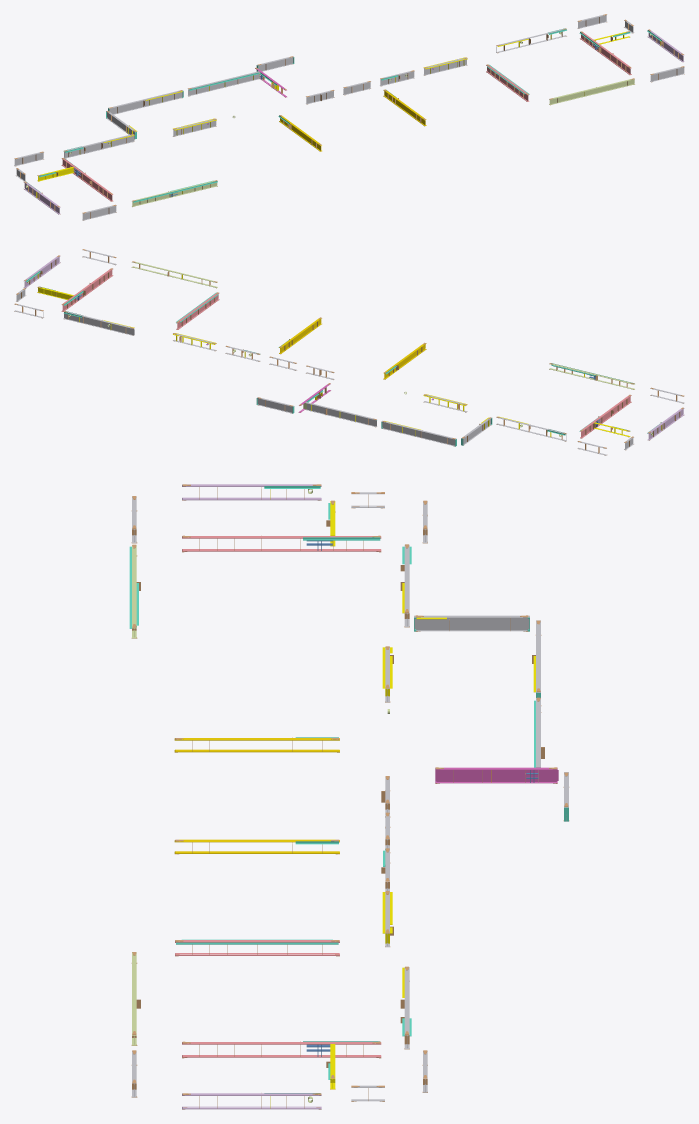
3 renders of one model, top to bottom at view 1: azimuth 30°, elevation 25°; view 2: azimuth 150°, elevation 25°; view 3: azimuth 270°, elevation 25°, orthographic. The views are drawn at different scales.
Visible parts, largest first — view 1: 18-3GL[1Ul9Zm000lGp4rE3aqCZWr], 18-3GL[1Ul9Zm000m3p4rE3aqCZWr], 18-3GL[1Ul9Zm000lBp4rE3aqCZWr], 18-3GL[1Ul9Zm000lJp4rE3aqCZWr], 18-3GL[1Ul9Zm000m2p4rE3aqCZWr], 18-3GL[1Ul9Zm000lyp4rE3aqCZWr], 18-3GL[1Ul9Zm000lzp4rE3aqCZWr], 18-3GL[1Ul9Zm000lop4rE3aqCZWr], 18-3GL[1Ul9Zm000l$p4rE3aqCZWr], 18-3GL[1Ul9Zm000lup4rE3aqCZWr], 18-3GL[1Ul9Zm000m1p4rE3aqCZWr], 18-3GL[1Ul9Zm000m0p4rE3aqCZWr] (+1 smaller); view 2: 18-3GL[1Ul9Zm000lGp4rE3aqCZWr], 18-3GL[1Ul9Zm000lJp4rE3aqCZWr], 18-3GL[1Ul9Zm000lip4rE3aqCZWr], 18-3GL[1Ul9Zm000lyp4rE3aqCZWr], 18-3GL[1Ul9Zm000lzp4rE3aqCZWr], 18-3GL[1Ul9Zm000l$p4rE3aqCZWr], 18-3GL[1Ul9Zm000m1p4rE3aqCZWr], 18-3GL[1Ul9Zm000m3p4rE3aqCZWr], 18-3GL[1Ul9Zm000m0p4rE3aqCZWr]; view 3: 18-3GL[1Ul9Zm000lLp4rE3aqCZWr], 18-3GL[1Ul9Zm000lDp4rE3aqCZWr], 18-3GL[1Ul9Zm000lzp4rE3aqCZWr], 18-3GL[1Ul9Zm000m0p4rE3aqCZWr], 18-3GL[1Ul9Zm000lyp4rE3aqCZWr], 18-3GL[1Ul9Zm000m1p4rE3aqCZWr], 18-3GL[1Ul9Zm000l$p4rE3aqCZWr], 18-3GL[1Ul9Zm000l_p4rE3aqCZWr].
Boxes of the visible parts, box(x1,y1,x2,y2) form: 18-3GL[1Ul9Zm000lGp4rE3aqCZWr]: box(108, 90, 182, 114); 18-3GL[1Ul9Zm000m3p4rE3aqCZWr]: box(549, 79, 634, 104); 18-3GL[1Ul9Zm000lBp4rE3aqCZWr]: box(64, 134, 134, 158); 18-3GL[1Ul9Zm000lJp4rE3aqCZWr]: box(188, 71, 259, 96); 18-3GL[1Ul9Zm000m2p4rE3aqCZWr]: box(132, 181, 217, 206); 18-3GL[1Ul9Zm000lyp4rE3aqCZWr]: box(61, 158, 113, 201); 18-3GL[1Ul9Zm000lzp4rE3aqCZWr]: box(580, 32, 631, 74); 18-3GL[1Ul9Zm000lop4rE3aqCZWr]: box(173, 119, 216, 136); 18-3GL[1Ul9Zm000l$p4rE3aqCZWr]: box(486, 65, 529, 101); 18-3GL[1Ul9Zm000lup4rE3aqCZWr]: box(423, 58, 467, 75); 18-3GL[1Ul9Zm000m1p4rE3aqCZWr]: box(383, 90, 426, 126); 18-3GL[1Ul9Zm000m0p4rE3aqCZWr]: box(279, 116, 321, 151); 18-3GL[1Ul9Zm000lGp4rE3aqCZWr]: box(382, 420, 456, 446); 18-3GL[1Ul9Zm000lJp4rE3aqCZWr]: box(305, 402, 376, 426); 18-3GL[1Ul9Zm000lip4rE3aqCZWr]: box(63, 312, 134, 335); 18-3GL[1Ul9Zm000lyp4rE3aqCZWr]: box(580, 395, 631, 438); 18-3GL[1Ul9Zm000lzp4rE3aqCZWr]: box(61, 268, 112, 311); 18-3GL[1Ul9Zm000l$p4rE3aqCZWr]: box(176, 293, 219, 329); 18-3GL[1Ul9Zm000m1p4rE3aqCZWr]: box(279, 318, 321, 353); 18-3GL[1Ul9Zm000m3p4rE3aqCZWr]: box(132, 261, 217, 287); 18-3GL[1Ul9Zm000m0p4rE3aqCZWr]: box(383, 343, 426, 379); 18-3GL[1Ul9Zm000lLp4rE3aqCZWr]: box(435, 767, 558, 783); 18-3GL[1Ul9Zm000lDp4rE3aqCZWr]: box(414, 615, 529, 631); 18-3GL[1Ul9Zm000lzp4rE3aqCZWr]: box(182, 1042, 381, 1057); 18-3GL[1Ul9Zm000m0p4rE3aqCZWr]: box(174, 738, 339, 752); 18-3GL[1Ul9Zm000lyp4rE3aqCZWr]: box(182, 536, 381, 551); 18-3GL[1Ul9Zm000m1p4rE3aqCZWr]: box(174, 839, 339, 853); 18-3GL[1Ul9Zm000l$p4rE3aqCZWr]: box(175, 940, 339, 955); 18-3GL[1Ul9Zm000l_p4rE3aqCZWr]: box(182, 1093, 321, 1109).
Size of the model in its own units: 39.62 by 0.4411 by 12.04.
